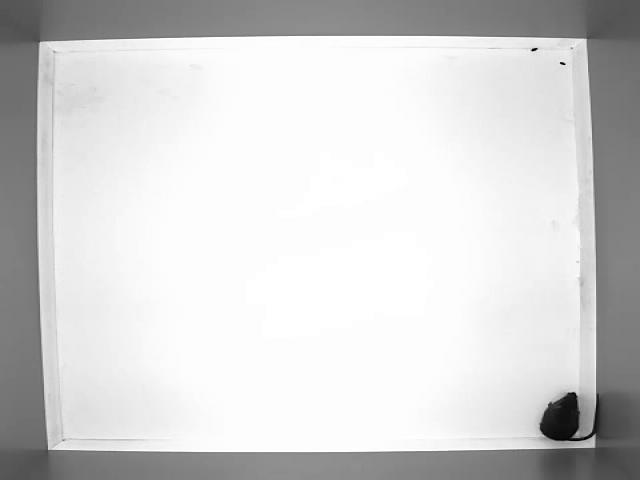Tikus: (535, 389, 603, 443)
